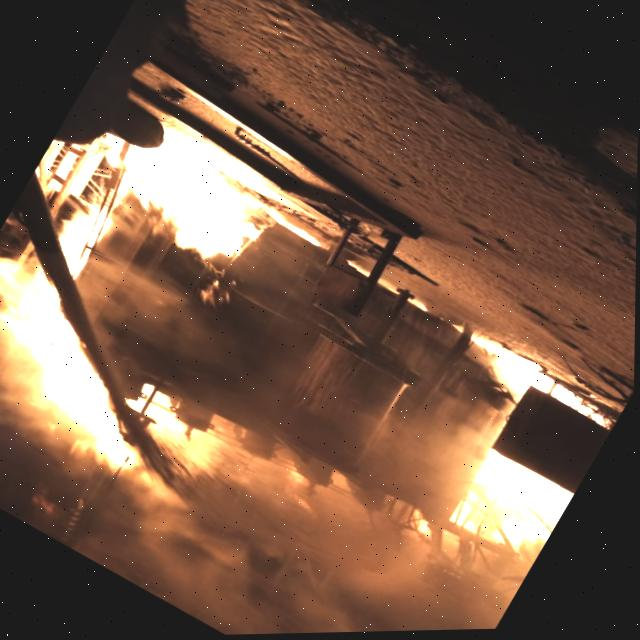Fire: (78, 386, 523, 639), (0, 78, 291, 351), (0, 272, 235, 499), (448, 325, 626, 454), (445, 444, 577, 571)
